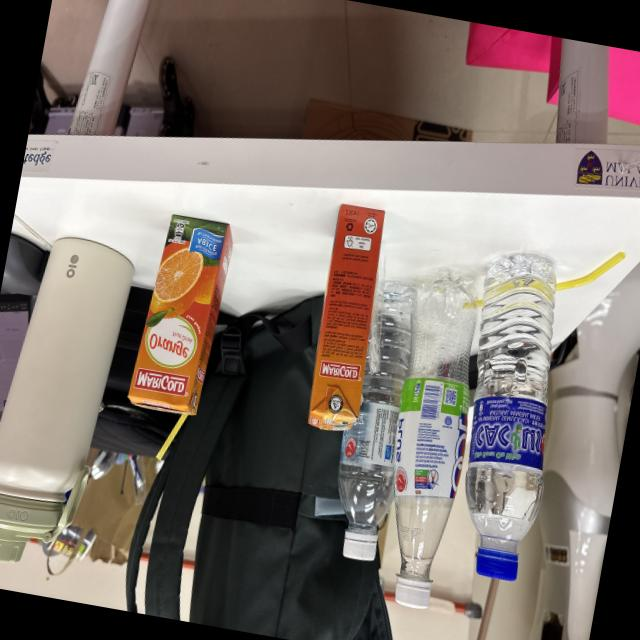drink_carton: (114, 201, 244, 471), (294, 192, 398, 445)
plastic_bottle: (428, 238, 586, 598), (354, 256, 497, 620), (314, 265, 438, 573)
